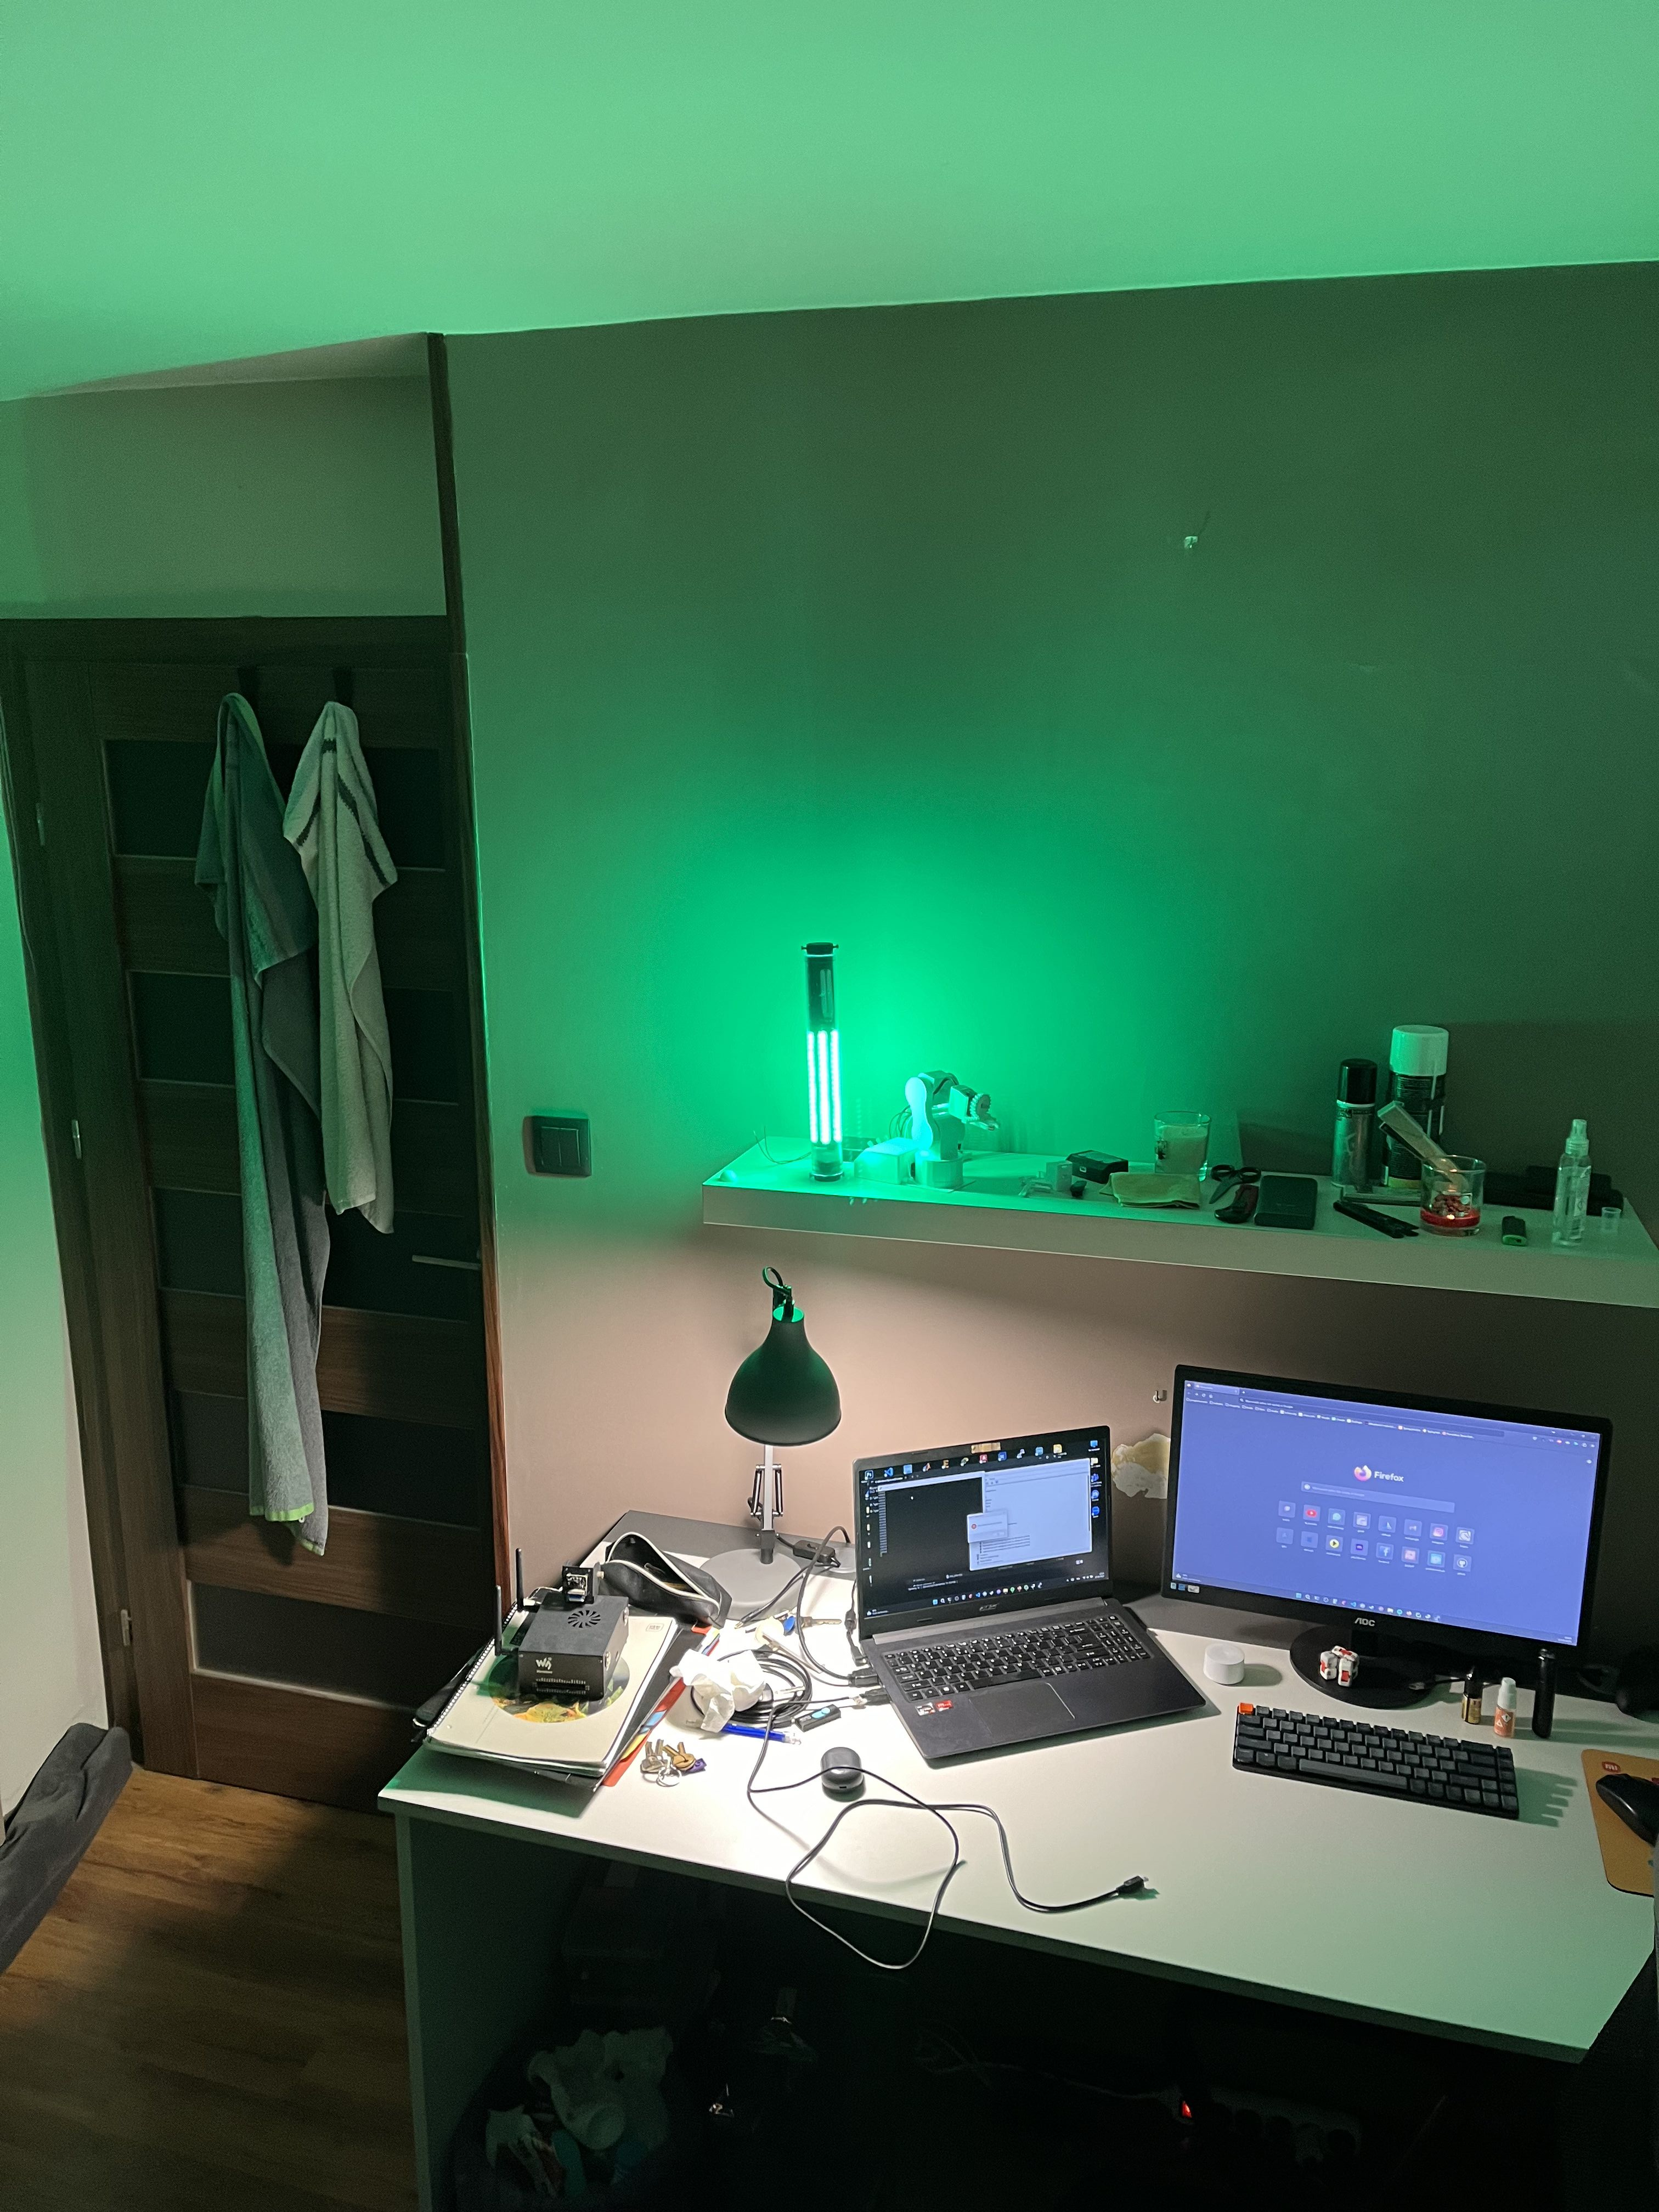green: (805, 956, 840, 1177)
